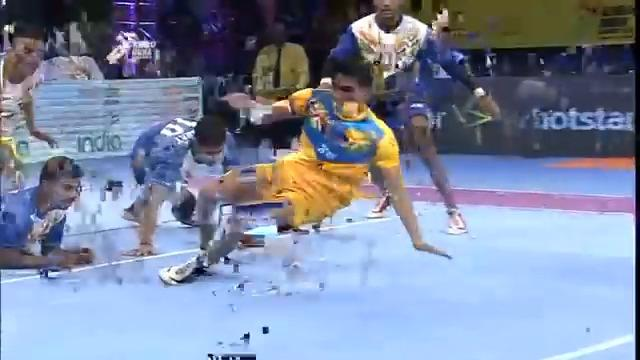Player: (323, 0, 501, 234), (120, 113, 229, 257), (0, 152, 95, 270)
Raider: (158, 52, 453, 284)
referee: (250, 20, 310, 104)
